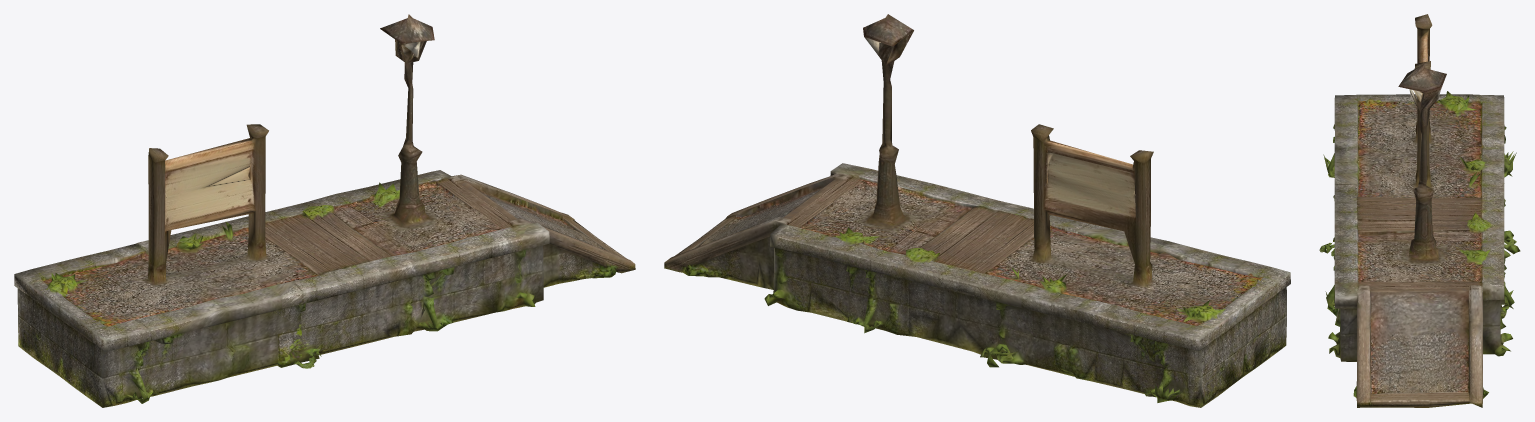
File: halt_platform.glb
The picture shows the model from 3 angles, left to right: view 1: azimuth 30°, elevation 25°; view 2: azimuth 150°, elevation 25°; view 3: azimuth 270°, elevation 25°; orthographic projection. The views are drawn at different scales.
Parts seen in each view (by area): view 1: stone platform 3d model; view 2: stone platform 3d model; view 3: stone platform 3d model.
Boxes of the visible parts, left/top/right/bottom form: stone platform 3d model: left=14, top=14, right=635, bottom=407; stone platform 3d model: left=664, top=14, right=1290, bottom=407; stone platform 3d model: left=1319, top=14, right=1520, bottom=407.
Size of the model in its own units: 7.17 by 3.5 by 2.47.
1 material, 1 textured.
